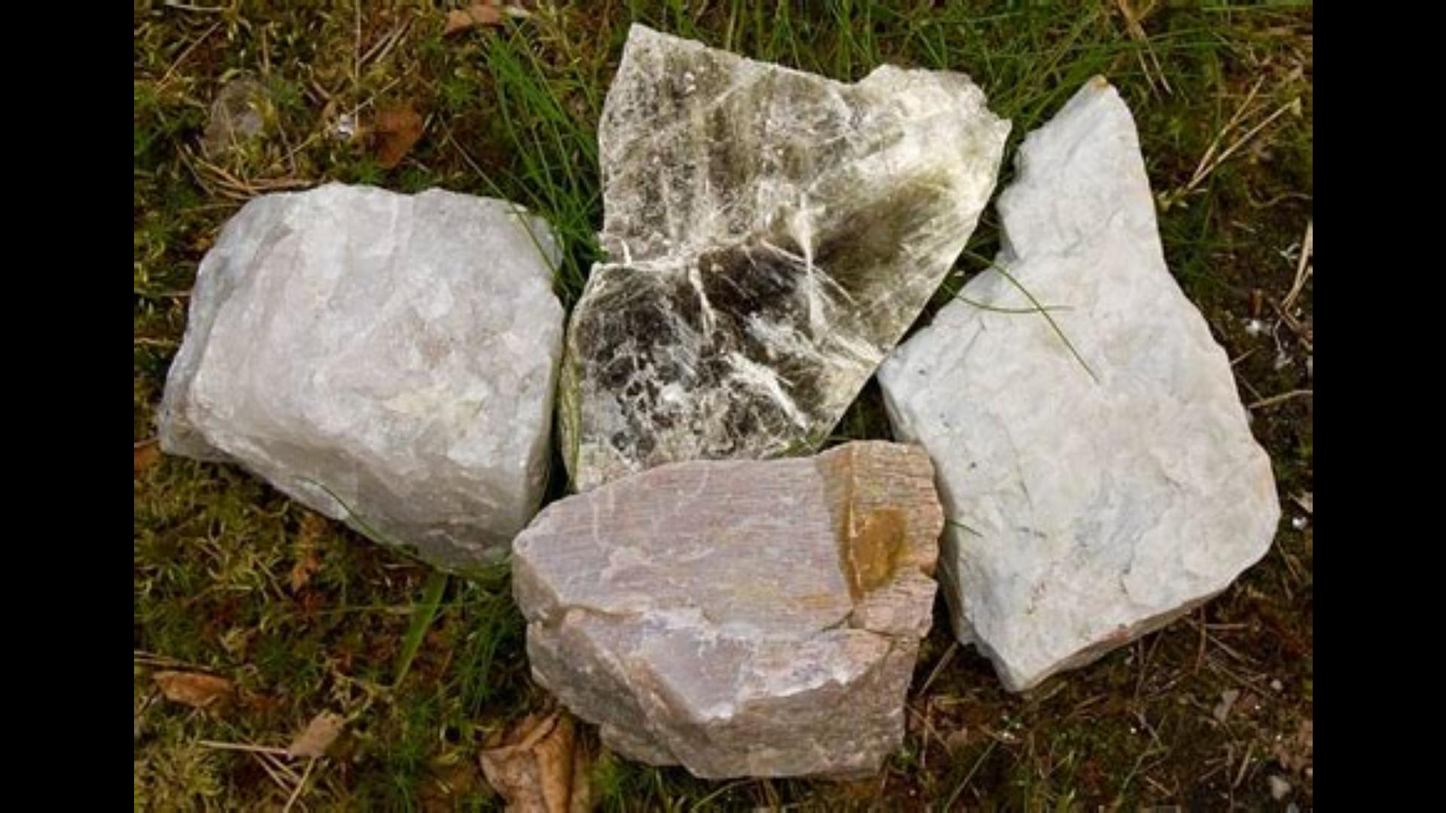rock: (881, 71, 1278, 685), (557, 25, 1007, 496), (156, 182, 564, 578), (515, 442, 941, 776)
